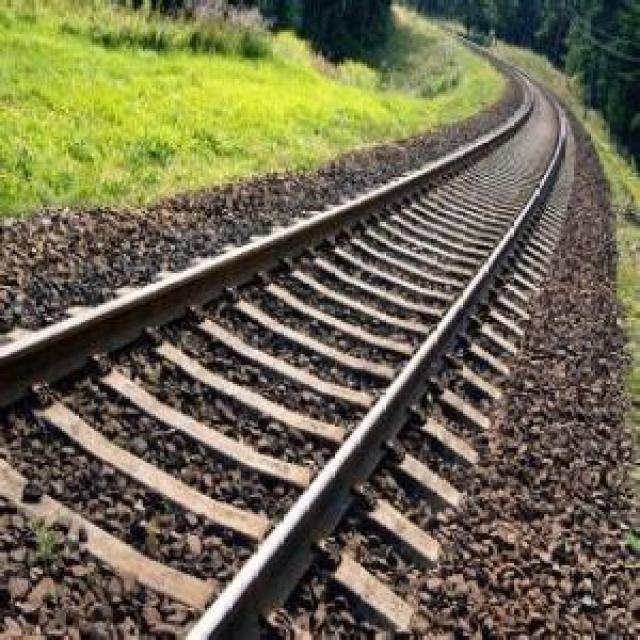rail: (1, 29, 582, 640)
